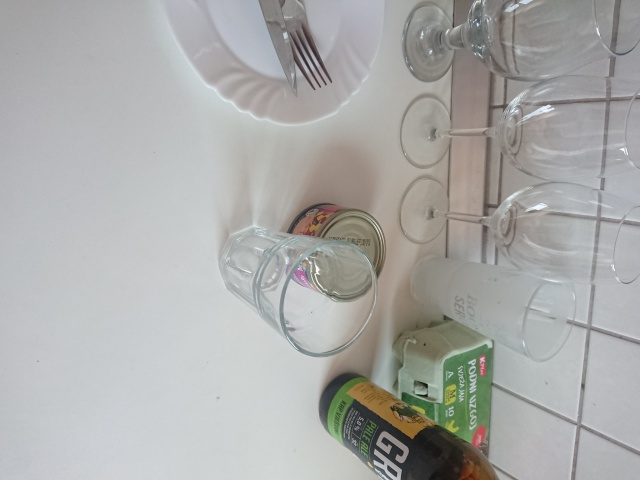Giana Tuna Salad Mexico 185g: (277, 200, 389, 305)
